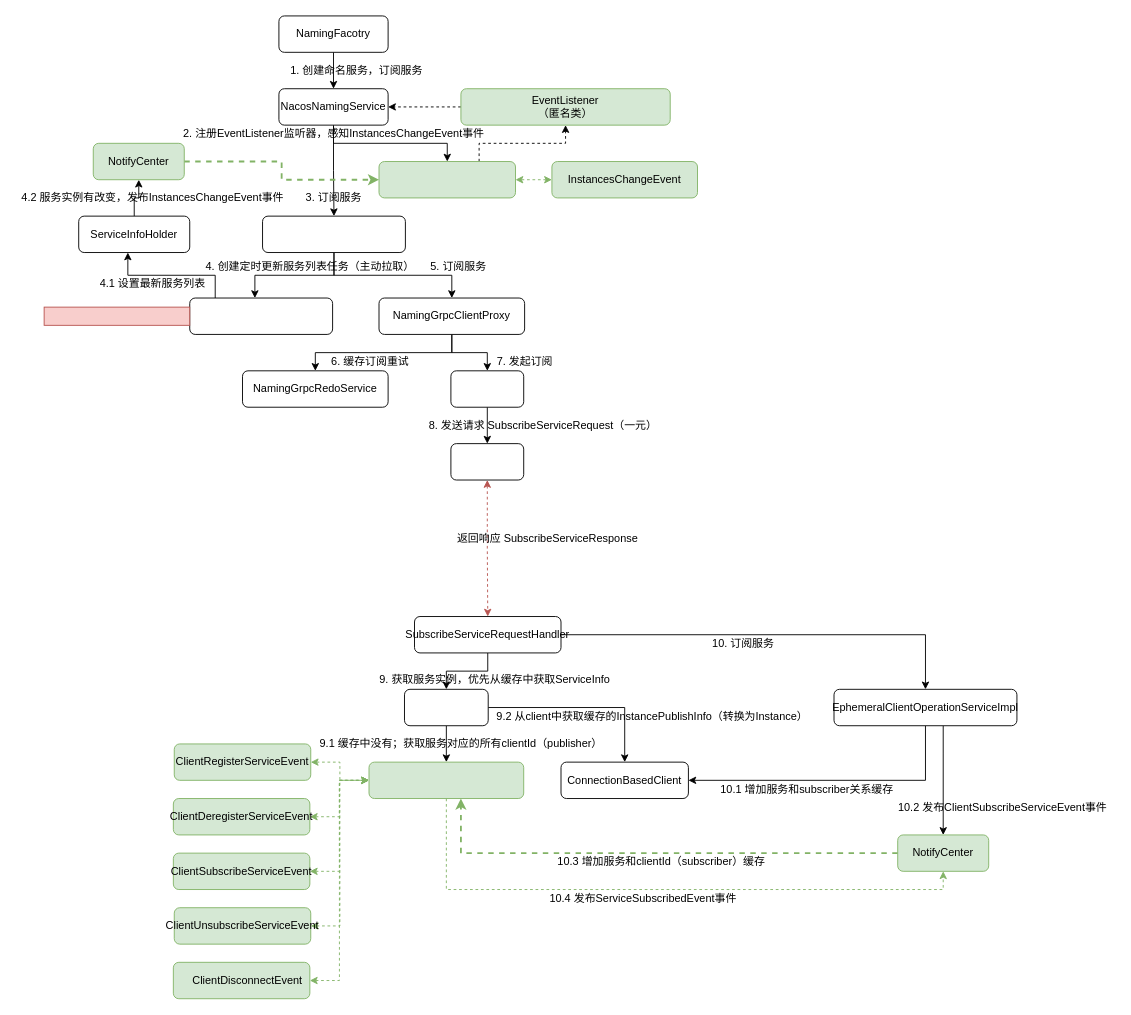
Image size: 1131x1015. Some labels were removed from this diagram. The shapes that lost their labels are listed below. From the top down, each one's centre as x and y in pixels, then its label:
At point 447,179: "InstancesChangeNotifier （subscriber）".
At point 333,234: "NamingClientProxyDelegate".
At point 116,315: "定时调度更新本地服务列表".
At point 261,315: "ServiceInfoUpdateService".
At point 487,388: "GrpcSdkClient".
At point 487,461: "GrpcConnection".
At point 446,707: "ServiceStorage".
At point 446,780: "ClientServiceIndexesManager (Subscriber)".
